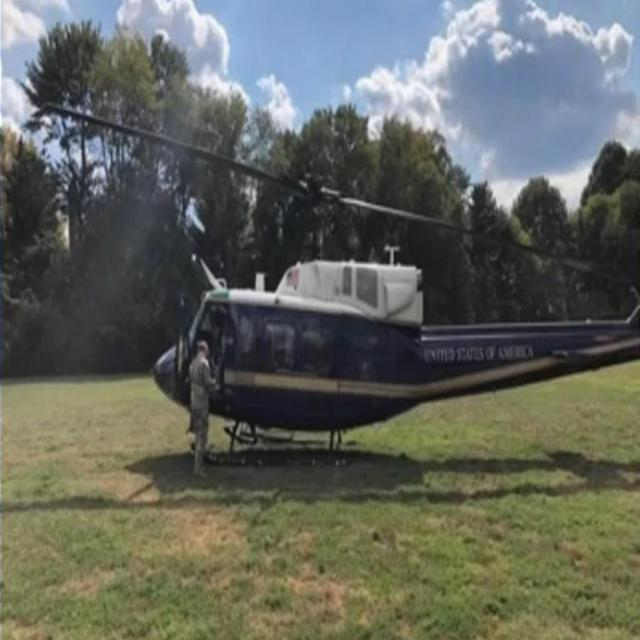helicopter: (111, 156, 626, 480)
